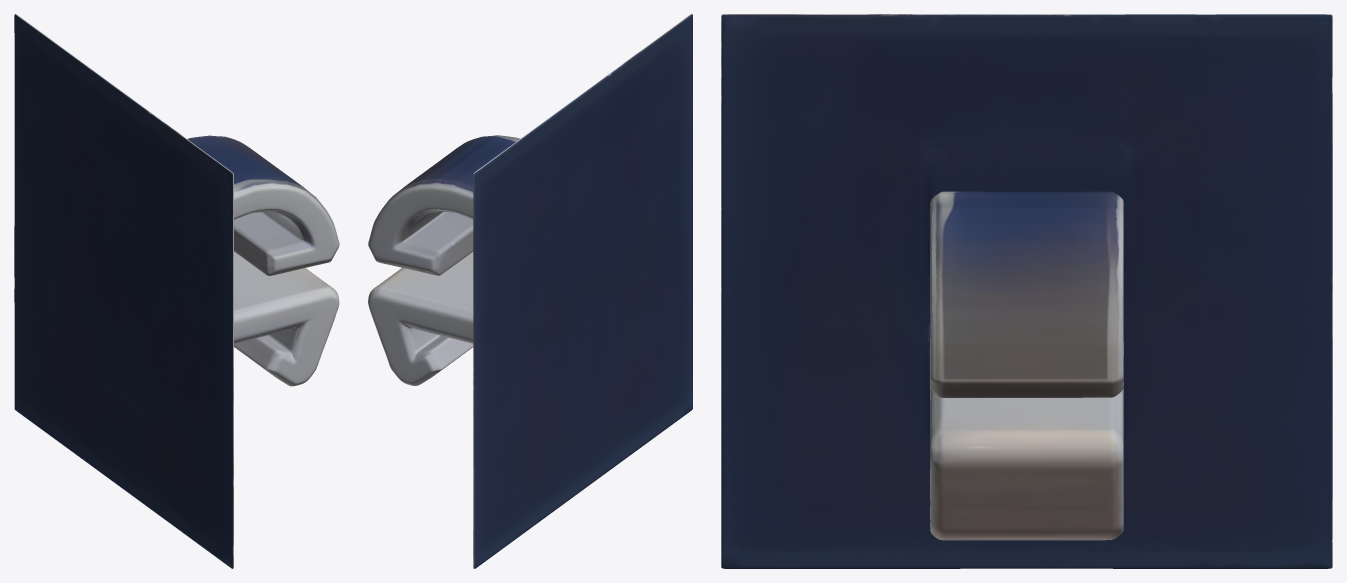
Rendered from CableClip.glb.
3 views of the same model, side by side, from view 1: azimuth 30°, elevation 25°; view 2: azimuth 150°, elevation 25°; view 3: azimuth 270°, elevation 25° (orthographic). The views are drawn at different scales.
Parts seen in each view (by area): view 1: CableClip; view 2: CableClip; view 3: CableClip.
Boxes of the visible parts, left/top/right/bottom form: CableClip: left=14, top=14, right=339, bottom=568; CableClip: left=368, top=14, right=692, bottom=568; CableClip: left=721, top=14, right=1332, bottom=568.
Size of the model in its own units: 0.9799 by 1.99 by 1.99.
Materials: 1 (1 with a texture image).
